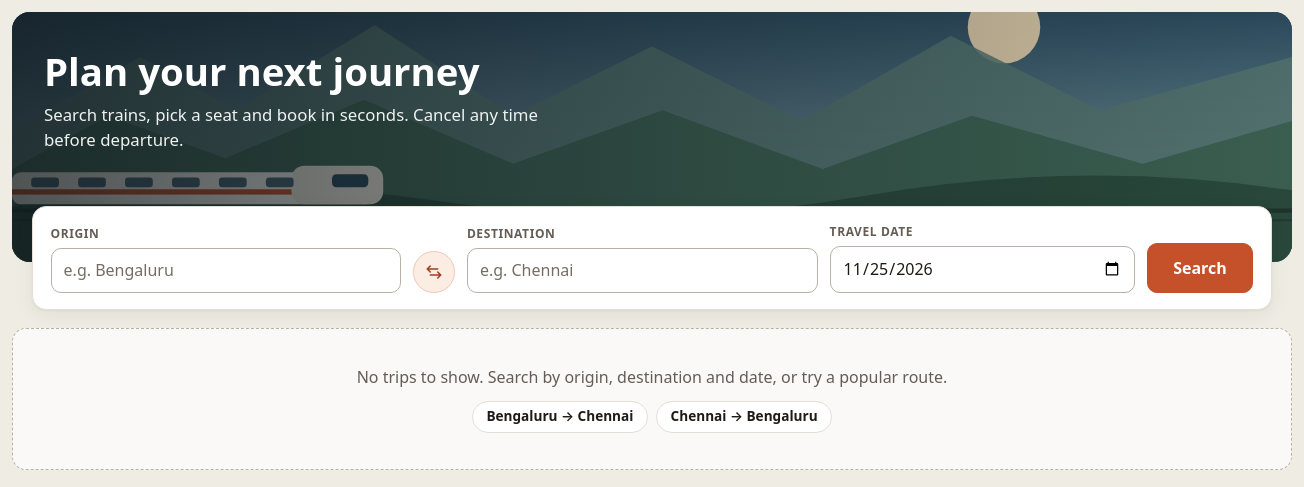
Scenario: search › the swap button exchanges origin and destination
Step 1. Type "Bengaluru" into the field labelled "Origin" → (226, 270), box [51,248,401,293]
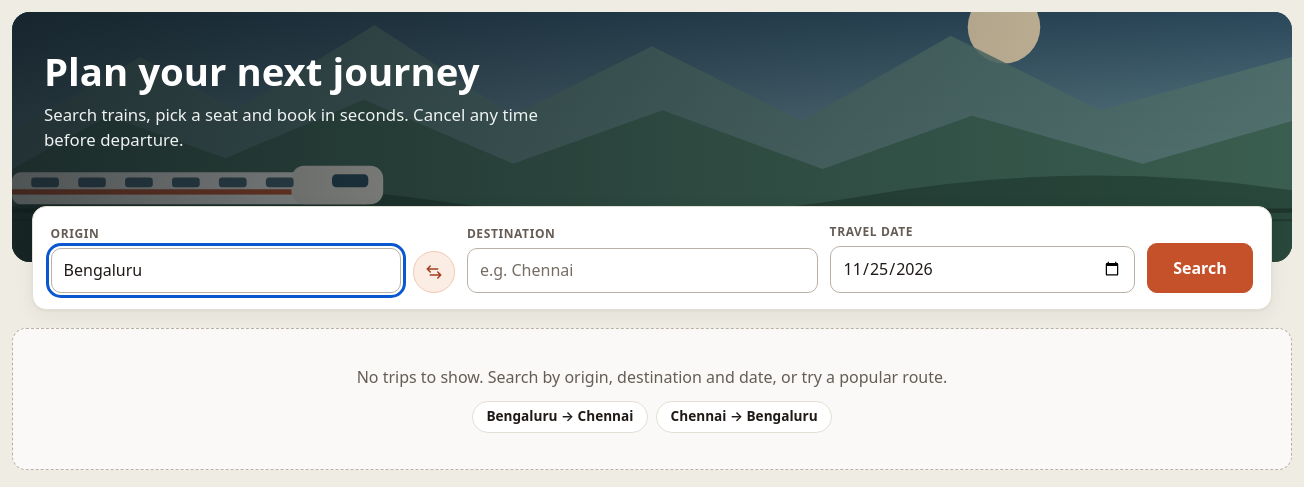
Step 2. Type "Chennai" into the field labelled "Destination" → (642, 270), box [467,248,818,293]
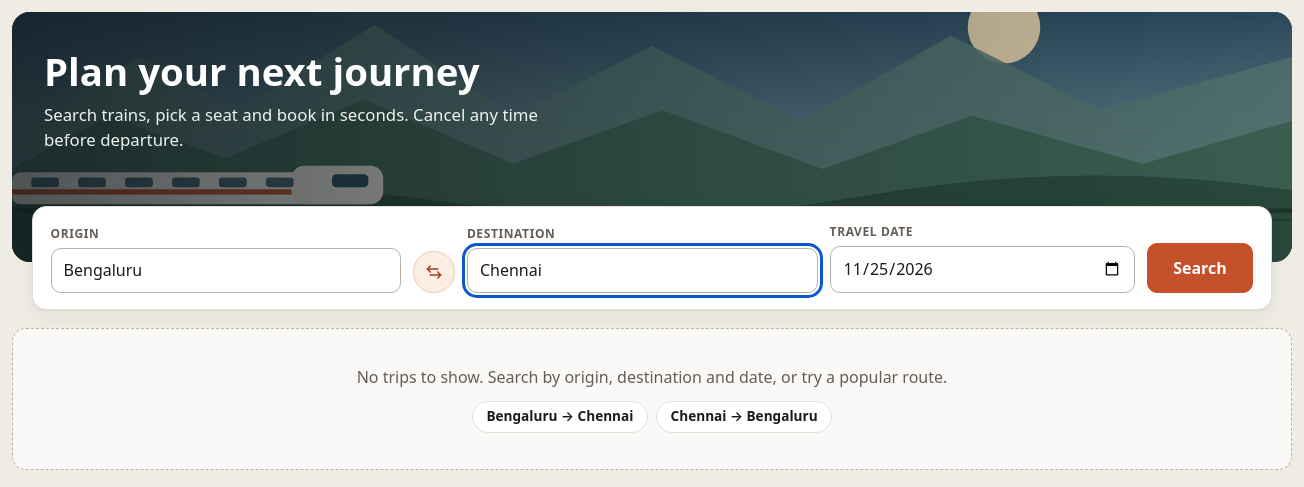
Step 3. Click the button named "Swap origin and destination" → (434, 272), box [413,251,455,293]
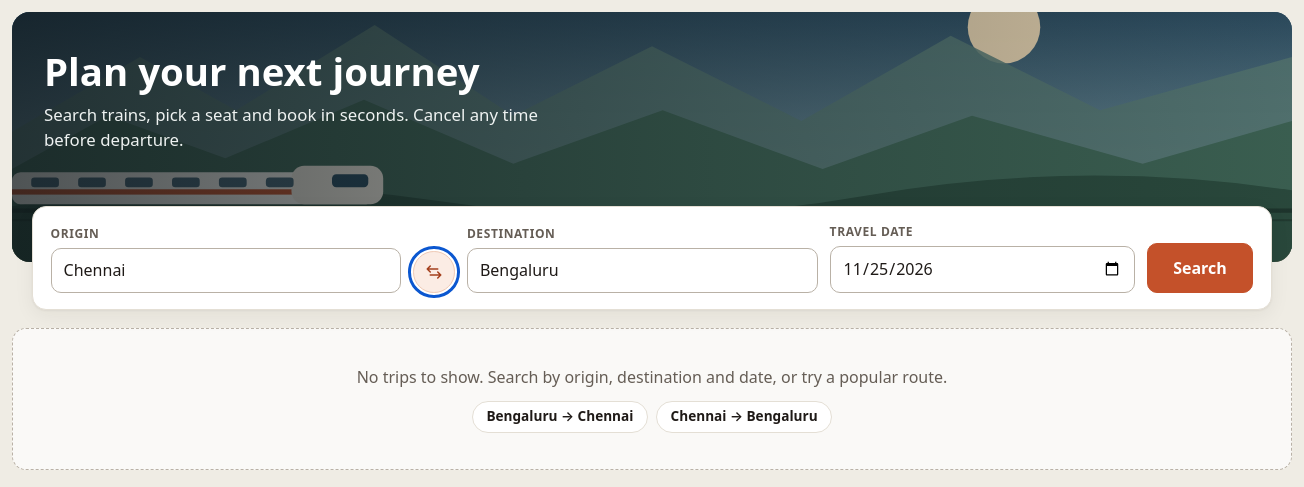
Expected: the field labelled "Origin" holds "Chennai", [51,248,401,293]
Expected: the field labelled "Destination" holds "Bengaluru", [467,248,818,293]
